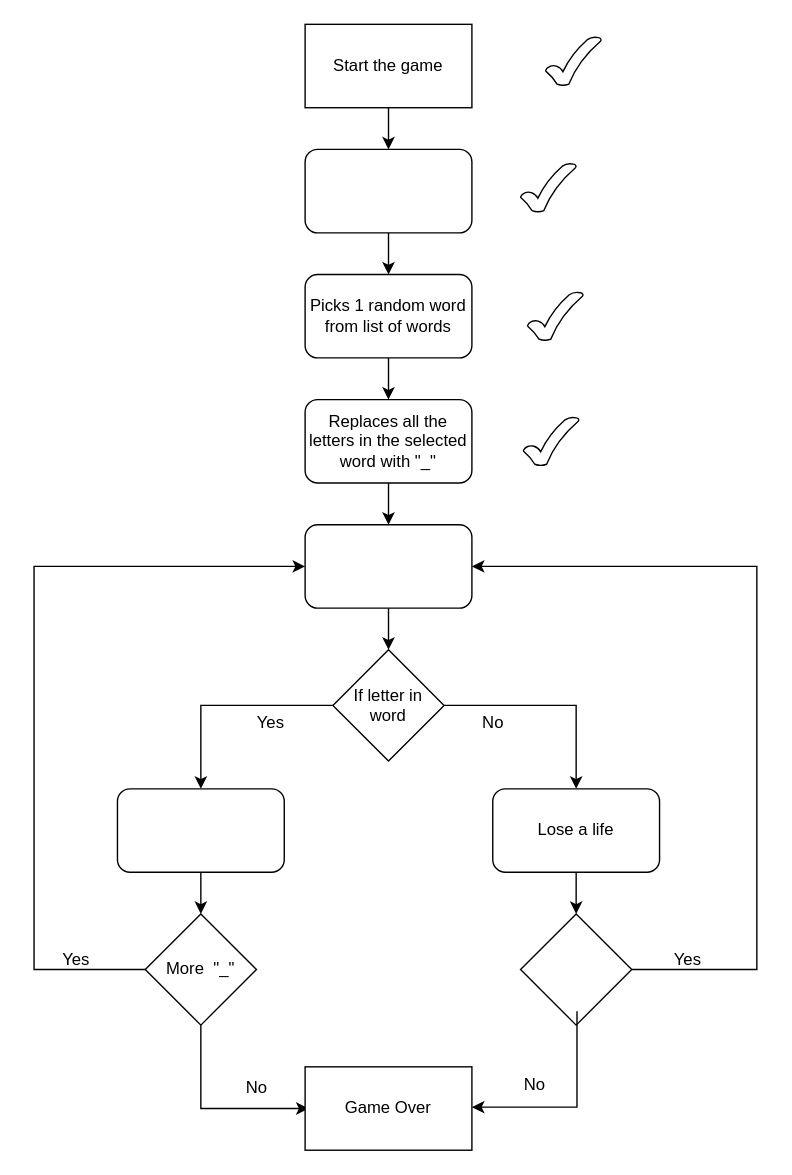
This 792x1175 diagram has some shape labels left out. Here are the shapes that lost their labels. From the top down, the box of each, then its label:
(304, 148, 472, 233): Computer Generates random words
(304, 523, 472, 608): Ask for user input for all the letters in the word
(116, 787, 284, 872): replace _ with the inputed letter
(519, 913, 632, 1025): More life
